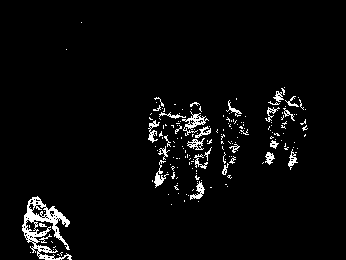person: (22, 195, 74, 259), (216, 95, 250, 180), (184, 102, 212, 200), (146, 96, 166, 188), (285, 96, 309, 169), (166, 102, 184, 191), (265, 84, 284, 165)
